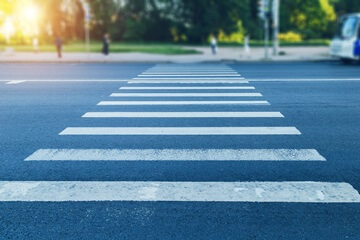Crosswalk: (4, 101, 360, 231), (127, 60, 328, 171)
